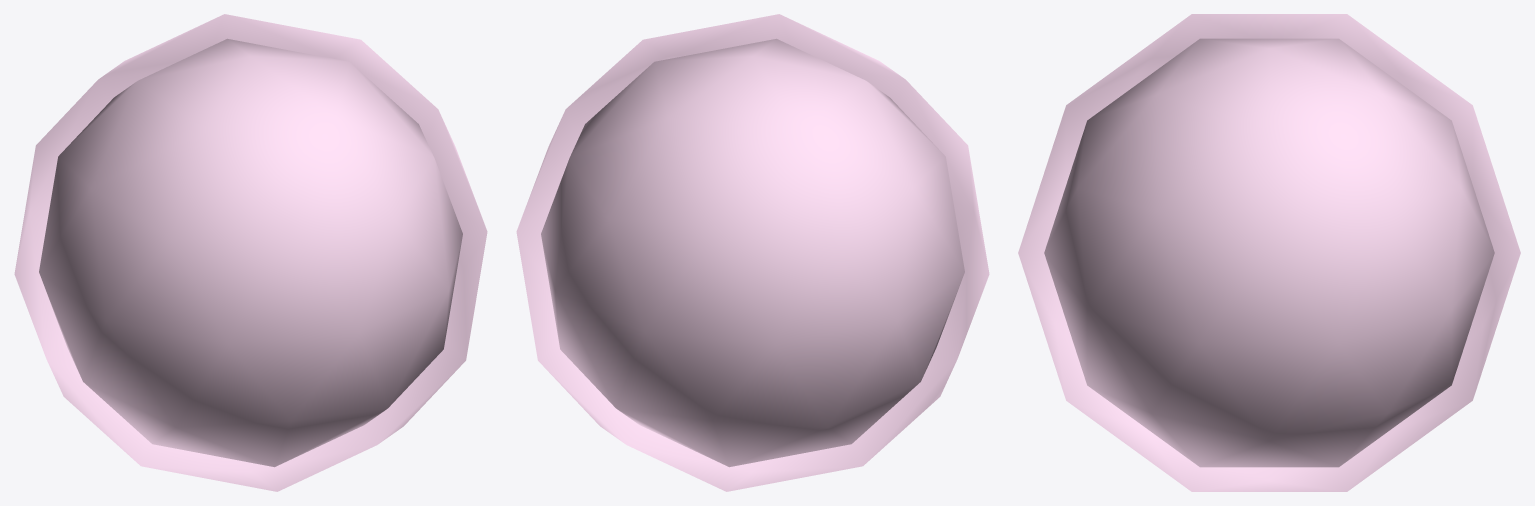
The model's file is ballLight.glb.
The picture shows the model from 3 angles, left to right: view 1: azimuth 30°, elevation 25°; view 2: azimuth 150°, elevation 25°; view 3: azimuth 270°, elevation 25°; orthographic projection. The views are drawn at different scales.
Visible parts, largest first — view 1: Ball, BallOutline; view 2: Ball, BallOutline; view 3: Ball, BallOutline.
Part boxes in pixels (bbox=[...]): Ball: bbox=[39, 38, 462, 467]; BallOutline: bbox=[14, 14, 487, 491]; Ball: bbox=[541, 38, 964, 467]; BallOutline: bbox=[516, 14, 989, 491]; Ball: bbox=[1044, 38, 1494, 467]; BallOutline: bbox=[1018, 14, 1520, 491].
Size of what is drawn, in the model's own units: 0.5876 by 0.6178 by 0.6178.
Materials: 2 (2 with a texture image).
